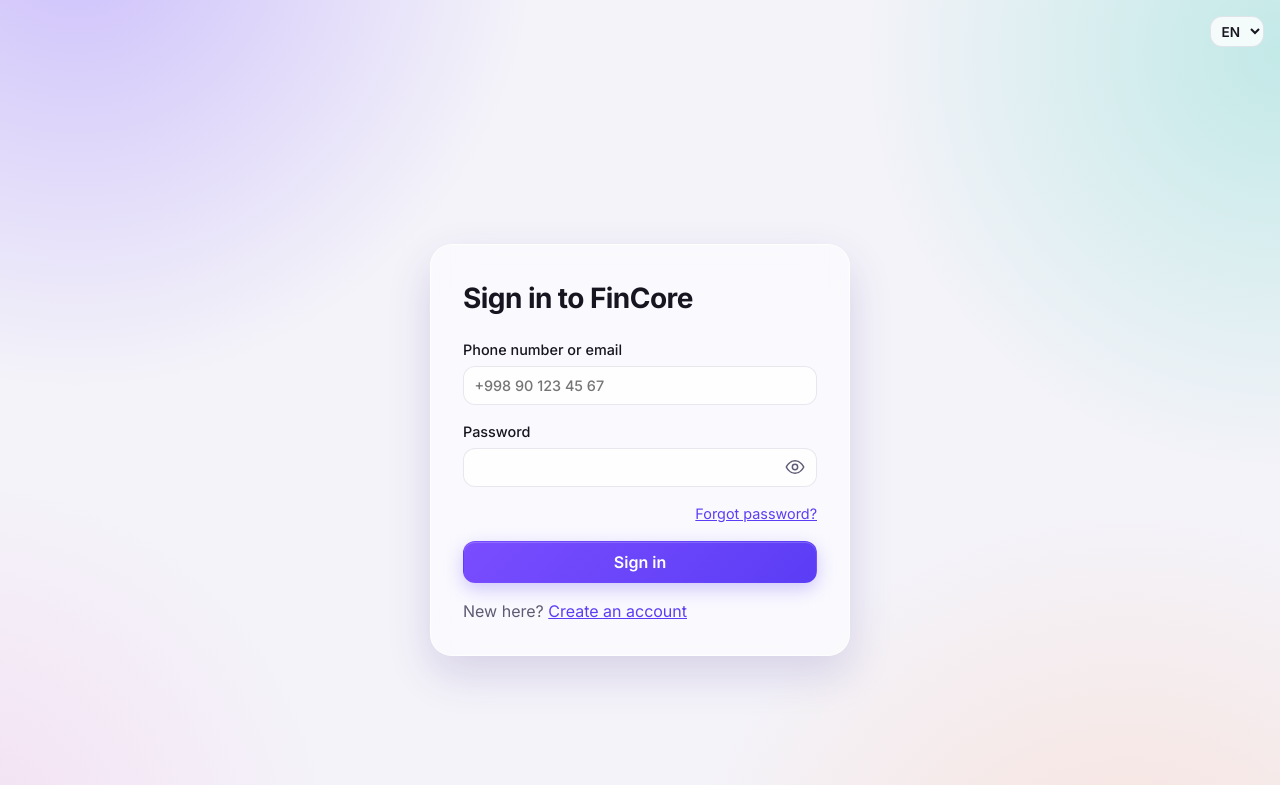
it: signing in with two steps › asks for the emailed code after the password, and signs in with it
In the field labelled "Phone number or email": point(640, 385) x1=463 y1=366 x2=817 y2=405, type "ada@example.com"
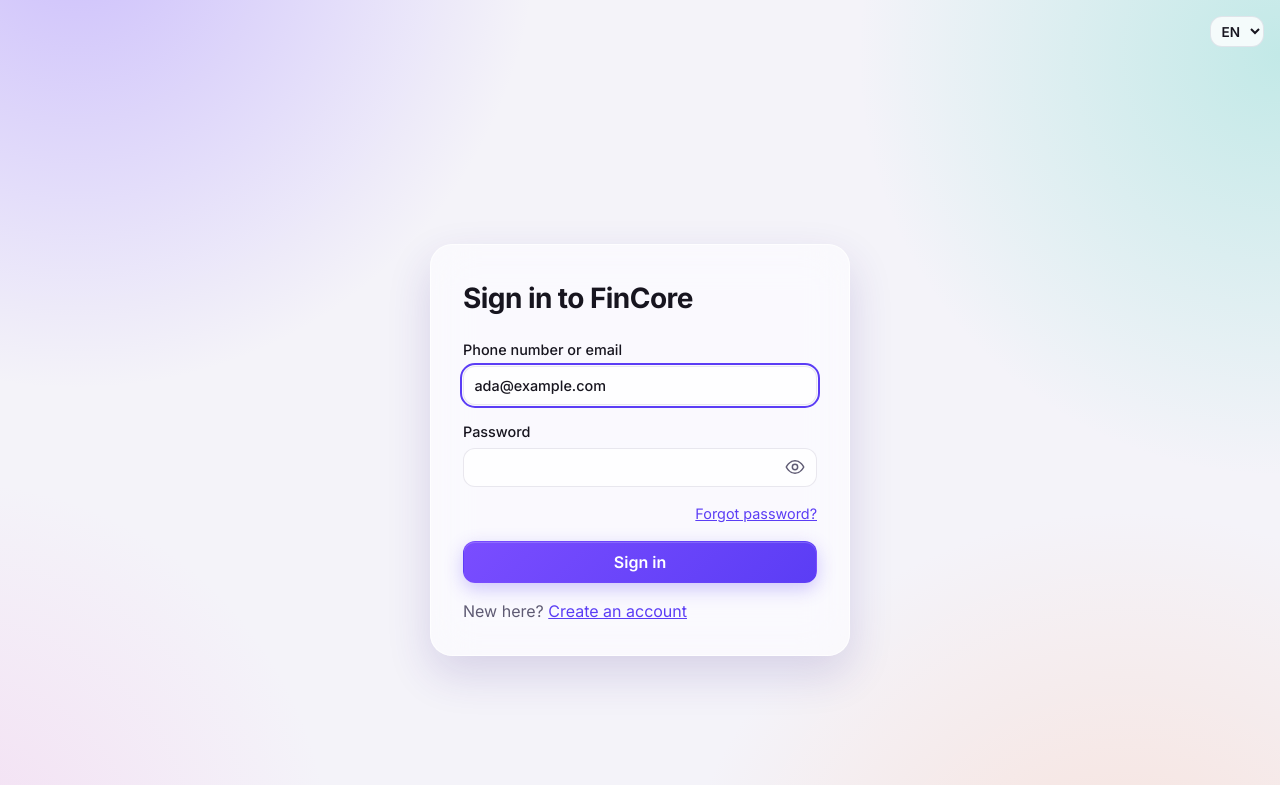
In the password field labelled "Password": point(640, 467) x1=463 y1=448 x2=817 y2=487, type "correct-horse"
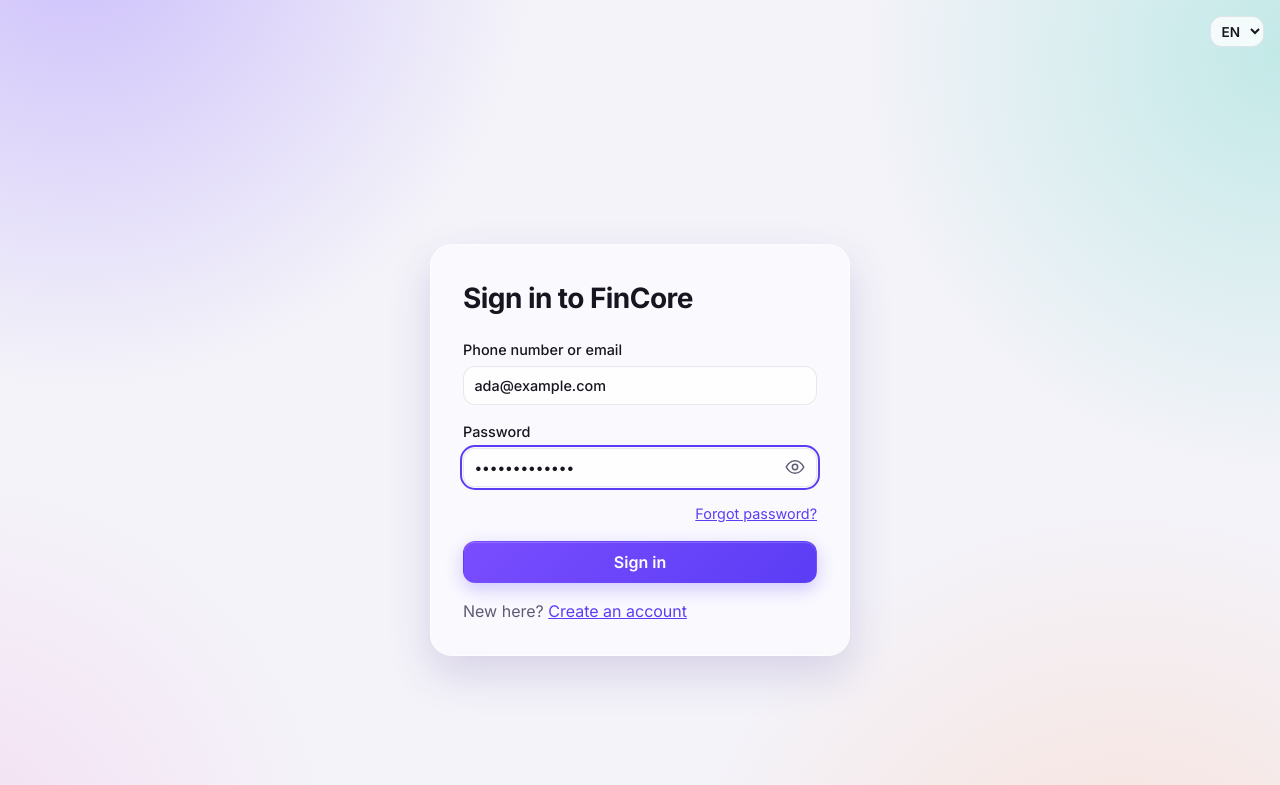
Click the button "Sign in": point(640, 562) x1=463 y1=541 x2=817 y2=583
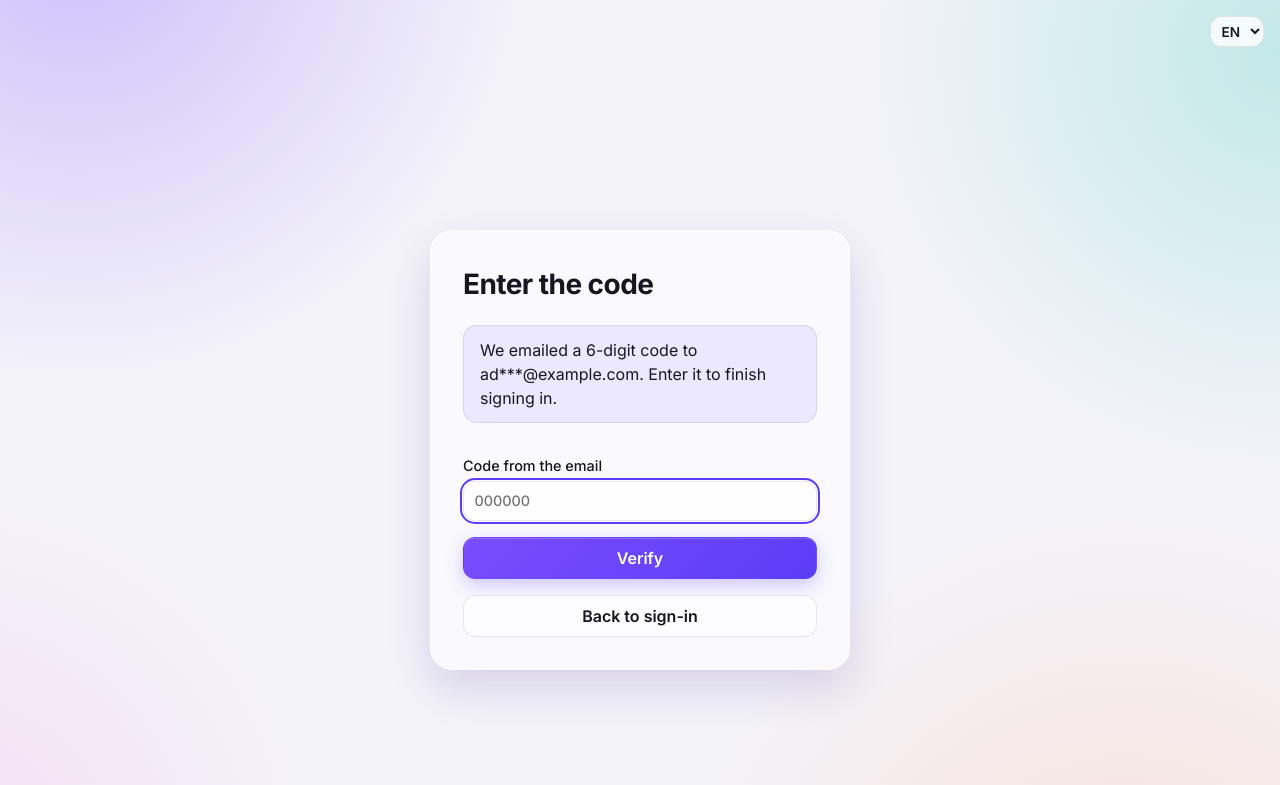
Check: the heading "Enter the code" is shown, box x1=463 y1=267 x2=653 y2=301
Check: the text "We emailed a 6-digit code to ad***@example.com. Enter it to finish signing in." is shown, box x1=463 y1=325 x2=817 y2=423
Check: the label labelled "Password" is gone
In the field labelled "Code from the email": point(640, 501) x1=463 y1=481 x2=817 y2=521, type "123456"
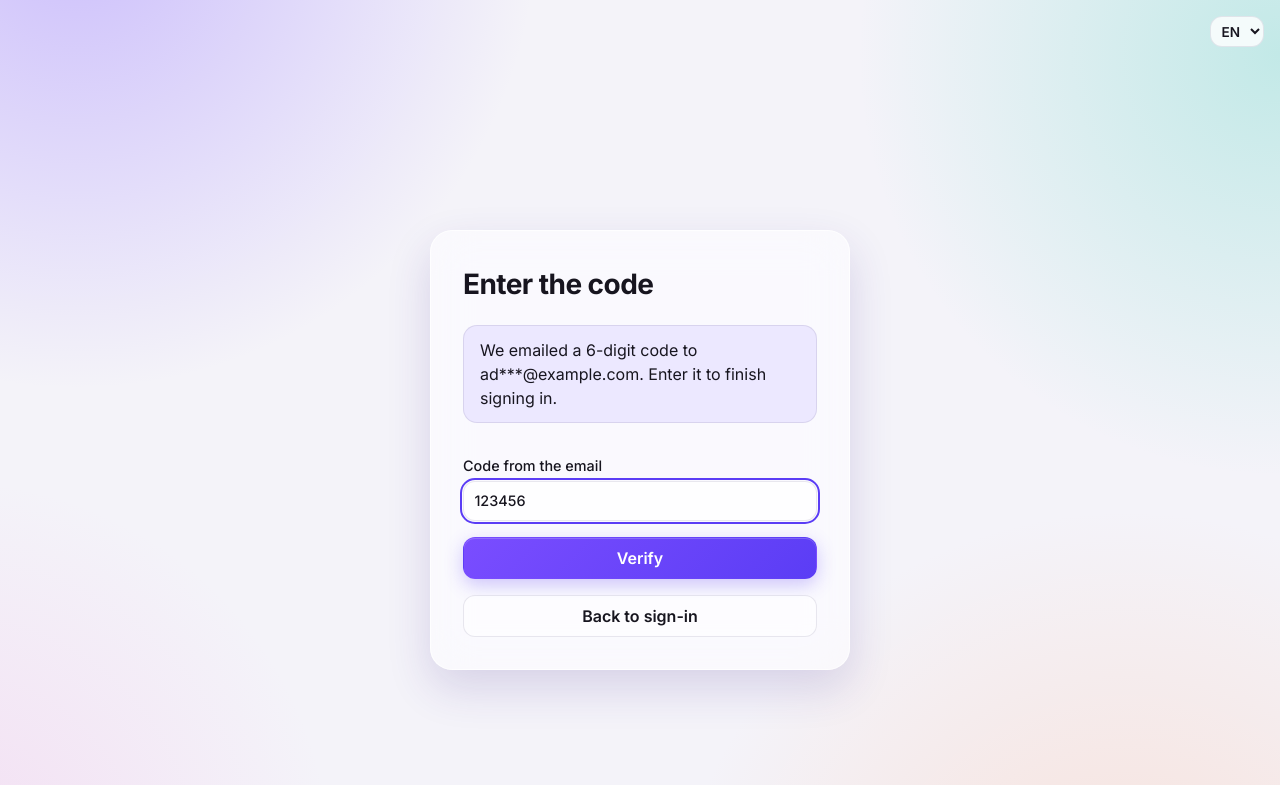
Click the button "Verify": point(640, 558) x1=463 y1=537 x2=817 y2=579
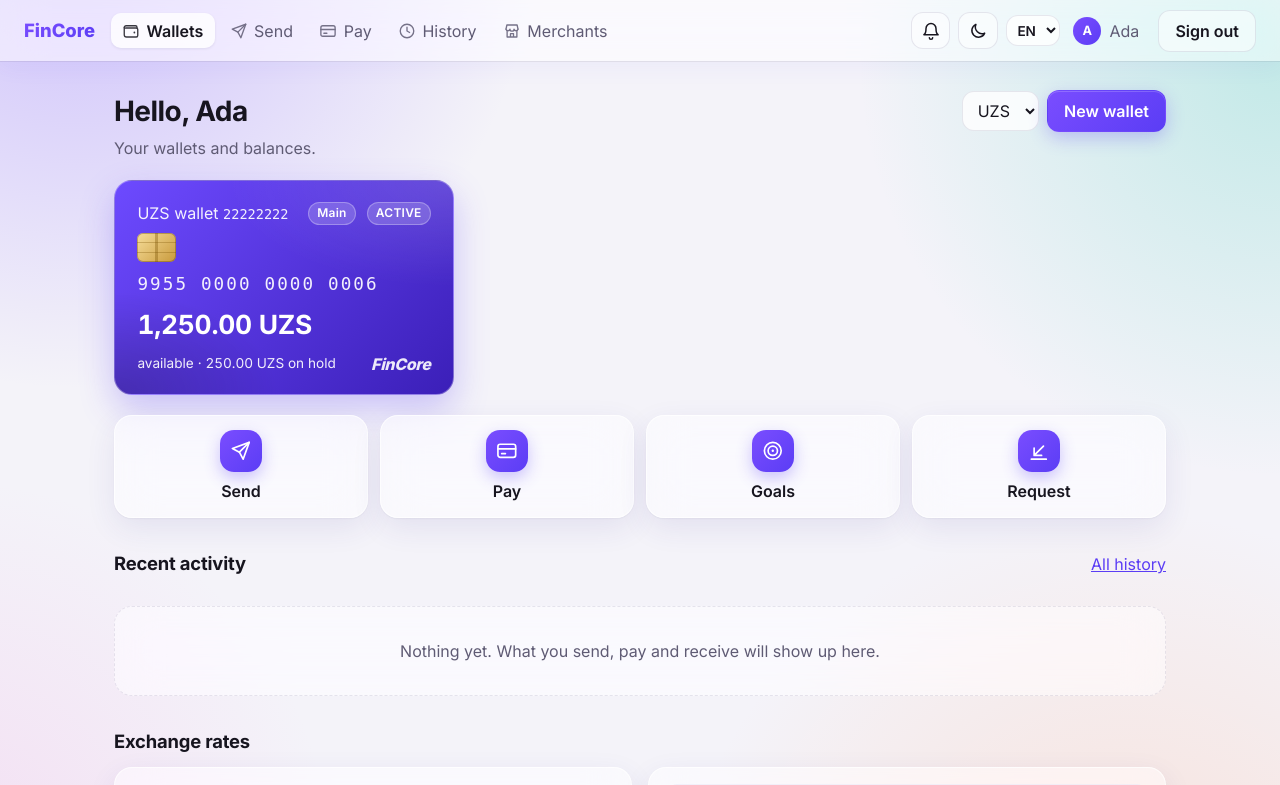
Check: the text "9955 0000 0000 0006" is shown, box x1=137 y1=274 x2=379 y2=294
